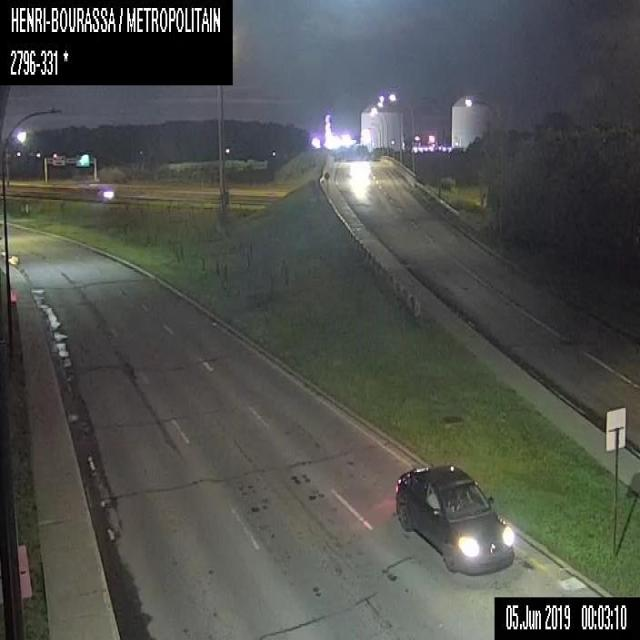vehicle: (392, 463, 514, 577)
